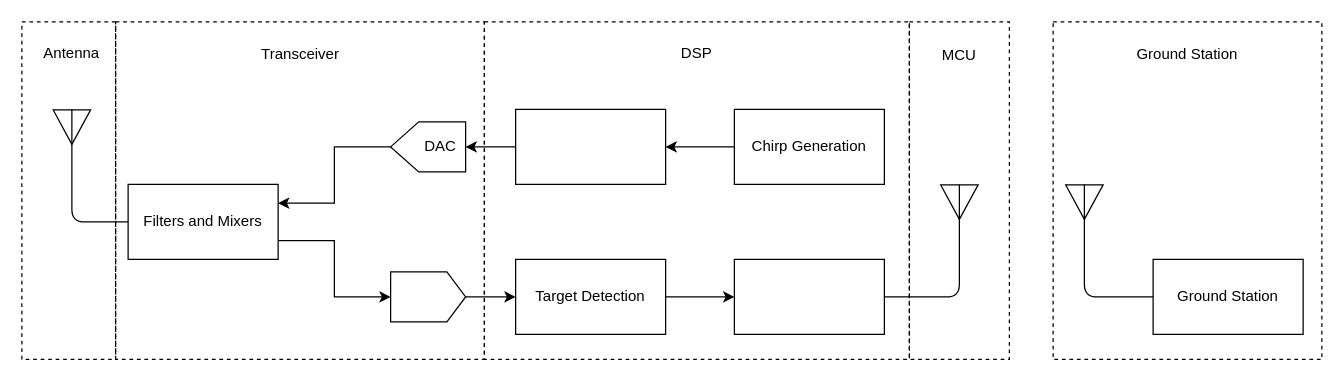
Some shapes in this 1344 by 381 pixel diagram are drawn without their labels. The shapes that lost their labels are listed below. From the top down, each one's box as (x1, y1, x2, y2) in pixels, then its label:
(514, 108, 666, 184): Beam Steering
(389, 271, 466, 322): ADC
(733, 258, 884, 334): Target Localization
